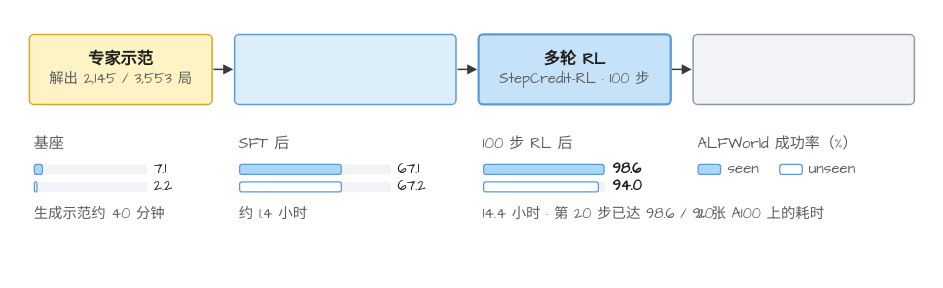
This 943x288 diagram has some shape labels left out. Each missing label, with the centre of its shape:
"SFT 只在工具调用上算 loss · 1 轮" belongs at [344,69].
"配对评测 同一批任务 · McNemar 检验" belongs at [803,69].
